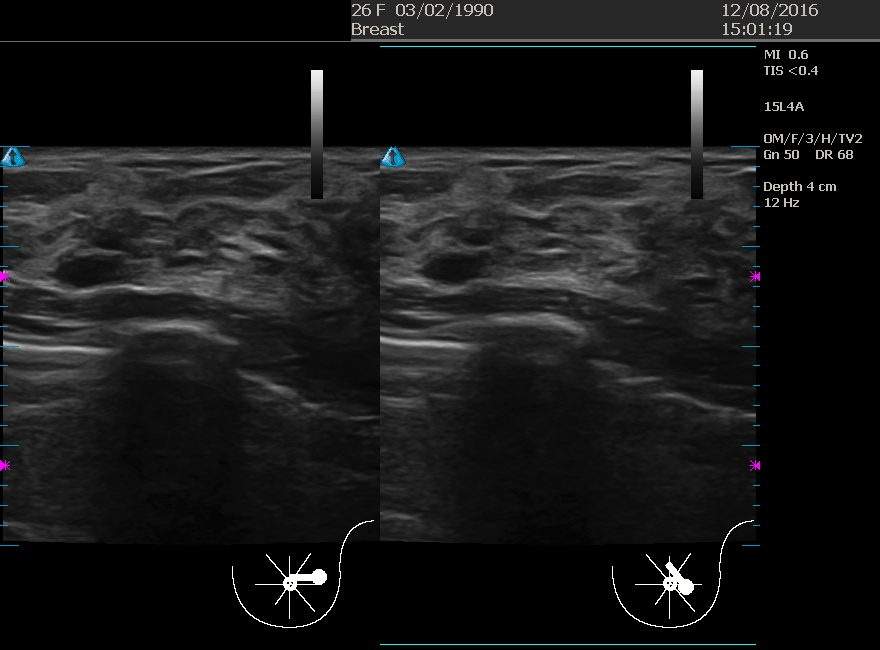BIRADS_2: (27, 240, 227, 441), (398, 241, 598, 441)
